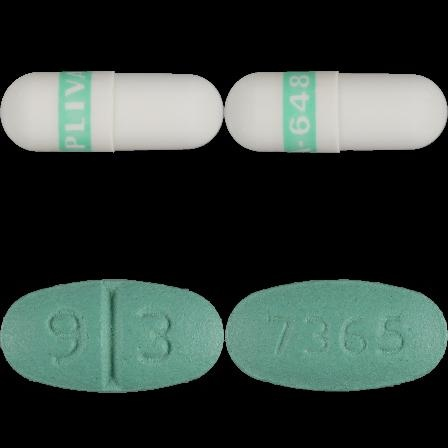76237-276: (0, 0, 224, 224)
